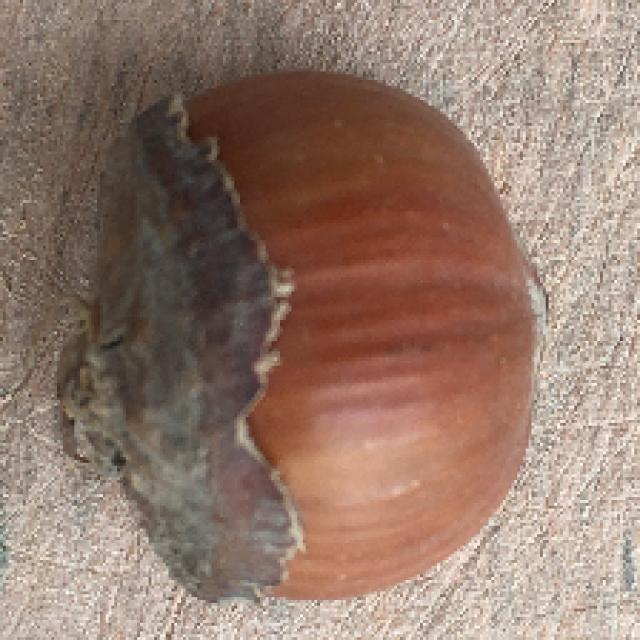damagedHazelnut: (62, 64, 548, 608)
